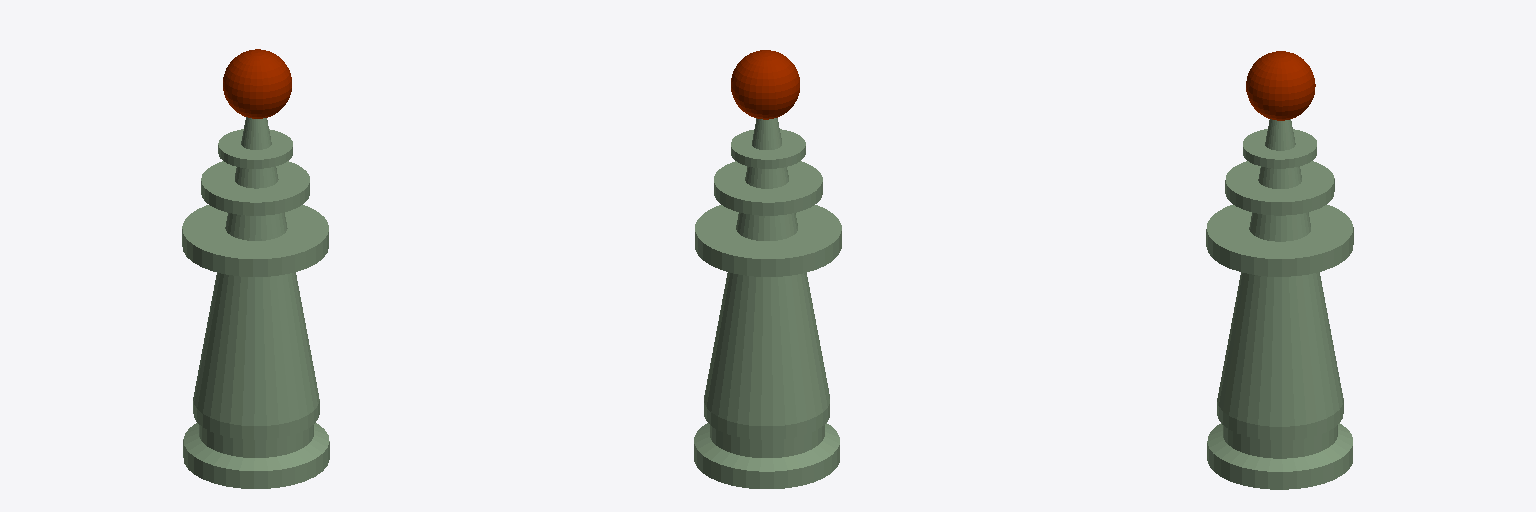
Rendered from Spark.obj.
3 views of the same model, side by side, from view 1: azimuth 30°, elevation 25°; view 2: azimuth 150°, elevation 25°; view 3: azimuth 270°, elevation 25° (orthographic).
Parts seen in each view (by area): view 1: Cylinder; view 2: Cylinder; view 3: Cylinder.
Part boxes in pixels (x1,y1,x2,y2): Cylinder: (182,49,329,488); Cylinder: (694,50,841,488); Cylinder: (1206,51,1353,489).
Bounding box in the file's own units: 1.93 × 5.85 × 1.92.